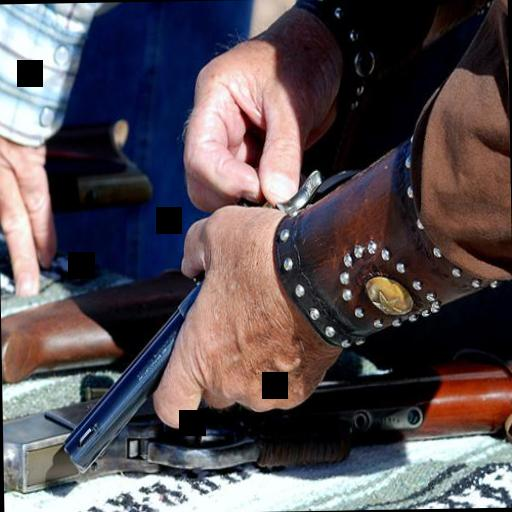Handgun: (56, 168, 370, 470)
